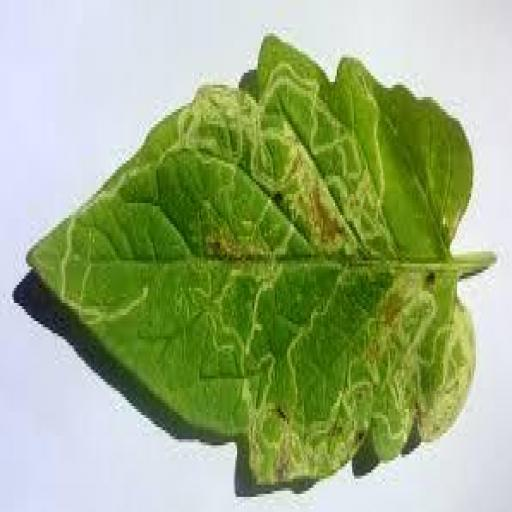disease_tomato: (26, 37, 476, 489)
